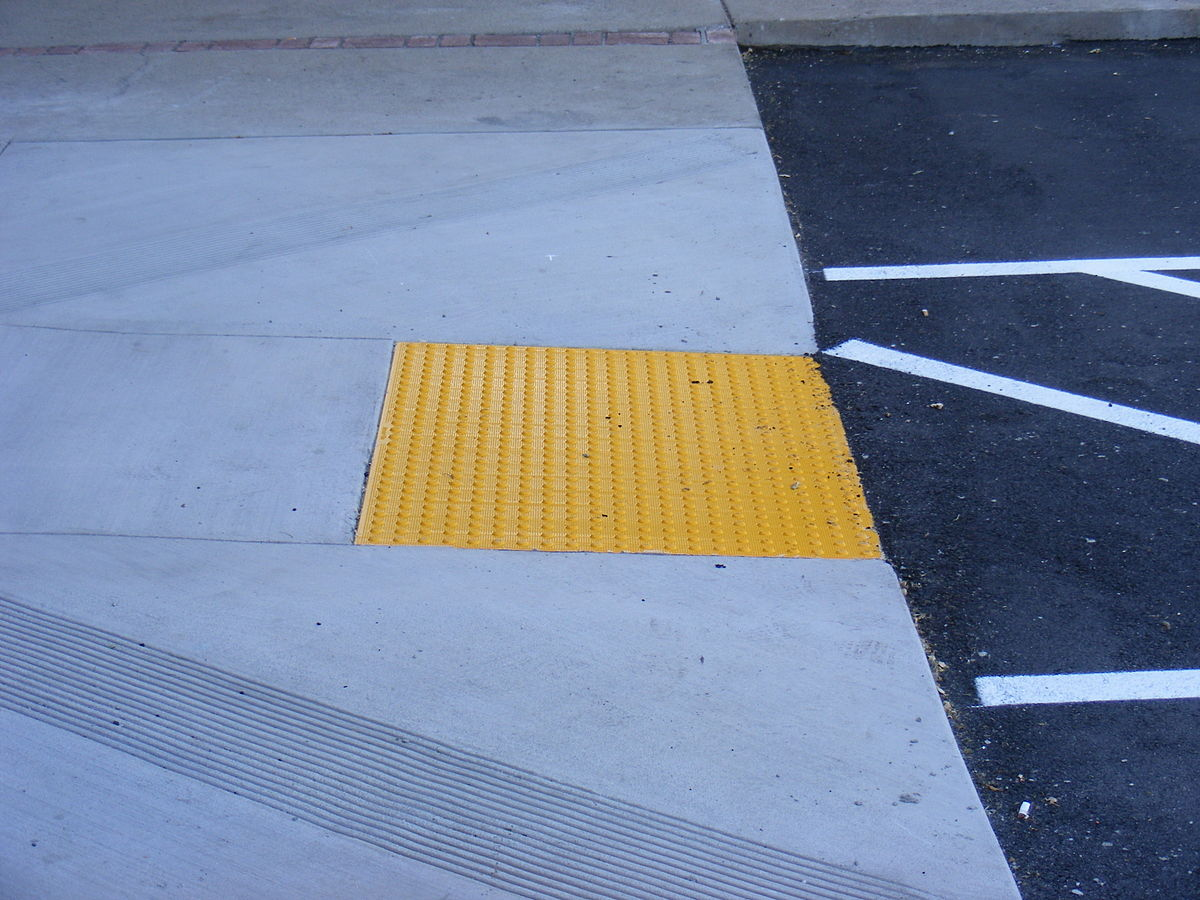ramp: (212, 116, 1075, 737)
